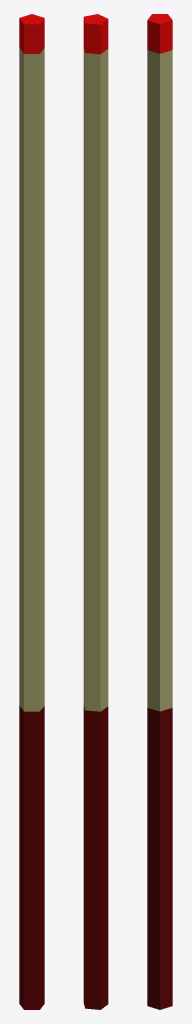
3 views of the same model, side by side, from view 1: azimuth 90°, elevation 25°; view 2: azimuth 150°, elevation 25°; view 3: azimuth 270°, elevation 25° (orthographic).
Visible parts, largest first — view 1: Tube; view 2: Tube; view 3: Tube.
Part boxes in pixels (x1=…): Tube: x1=19, y1=14, x2=44, y2=1009; Tube: x1=83, y1=14, x2=108, y2=1009; Tube: x1=147, y1=14, x2=172, y2=1009.
Size of the model in its own units: 0.00241 by 0.1081 by 0.00253.
